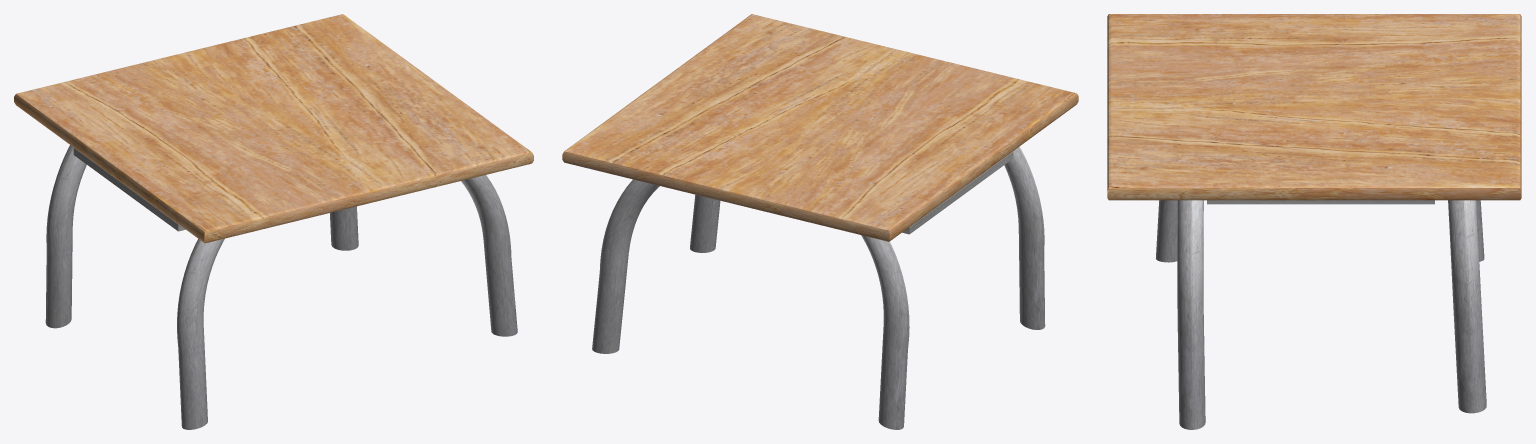
File: Table.fbx
3 renders of one model, left to right at view 1: azimuth 30°, elevation 25°; view 2: azimuth 150°, elevation 25°; view 3: azimuth 270°, elevation 25°, orthographic. The views are drawn at different scales.
Visible parts, largest first — view 1: TableBase, Chairleg3, Chairleg2, Chairleg4, Chairleg1, TableDraw; view 2: TableBase, Chairleg2, Chairleg1, Chairleg3, Chairleg4, TableDraw; view 3: TableBase, Chairleg4, Chairleg1, Chairleg3, TableDraw.
Boxes of the visible parts, x1,y1,x2,y2 form: TableBase: (14,14,533,243); Chairleg3: (177,238,224,429); Chairleg2: (45,145,86,328); Chairleg4: (461,175,517,336); Chairleg1: (330,206,358,250); TableDraw: (73,148,185,231); TableBase: (562,14,1078,241); Chairleg2: (861,235,909,429); Chairleg1: (592,179,659,353); Chairleg3: (1004,146,1045,329); Chairleg4: (690,194,720,252); TableDraw: (902,152,1013,234); TableBase: (1107,14,1521,200); Chairleg4: (1177,200,1205,429); Chairleg1: (1448,200,1486,413); Chairleg3: (1156,200,1177,262); TableDraw: (1207,200,1434,204).
Size of the model in its own units: 107 by 63.64 by 100.
